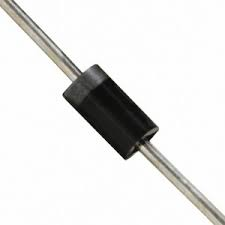diode: (23, 22, 205, 222)
